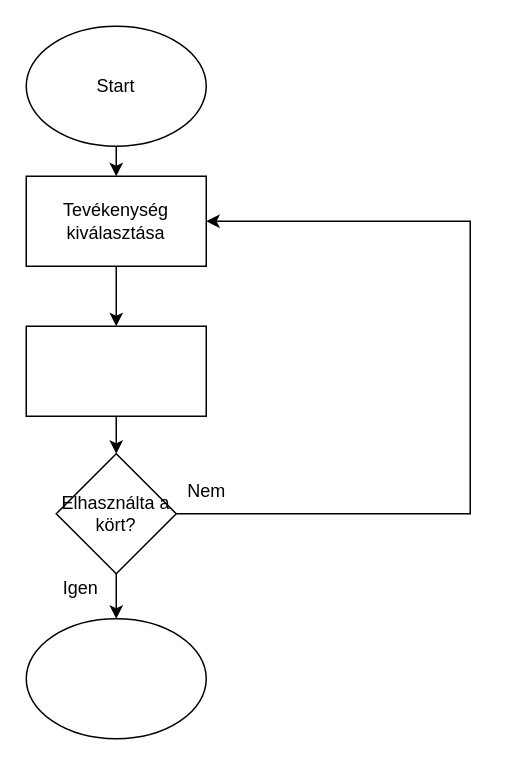
The diagram is 509 pixels wide and 765 high, and some of its shapes have lost their labels. Here are the shapes that lost their labels. From the top down, the centre of each, then its label:
At point (115, 370): "Tevékenység lebonyolitás".
At point (115, 678): "Stop".
